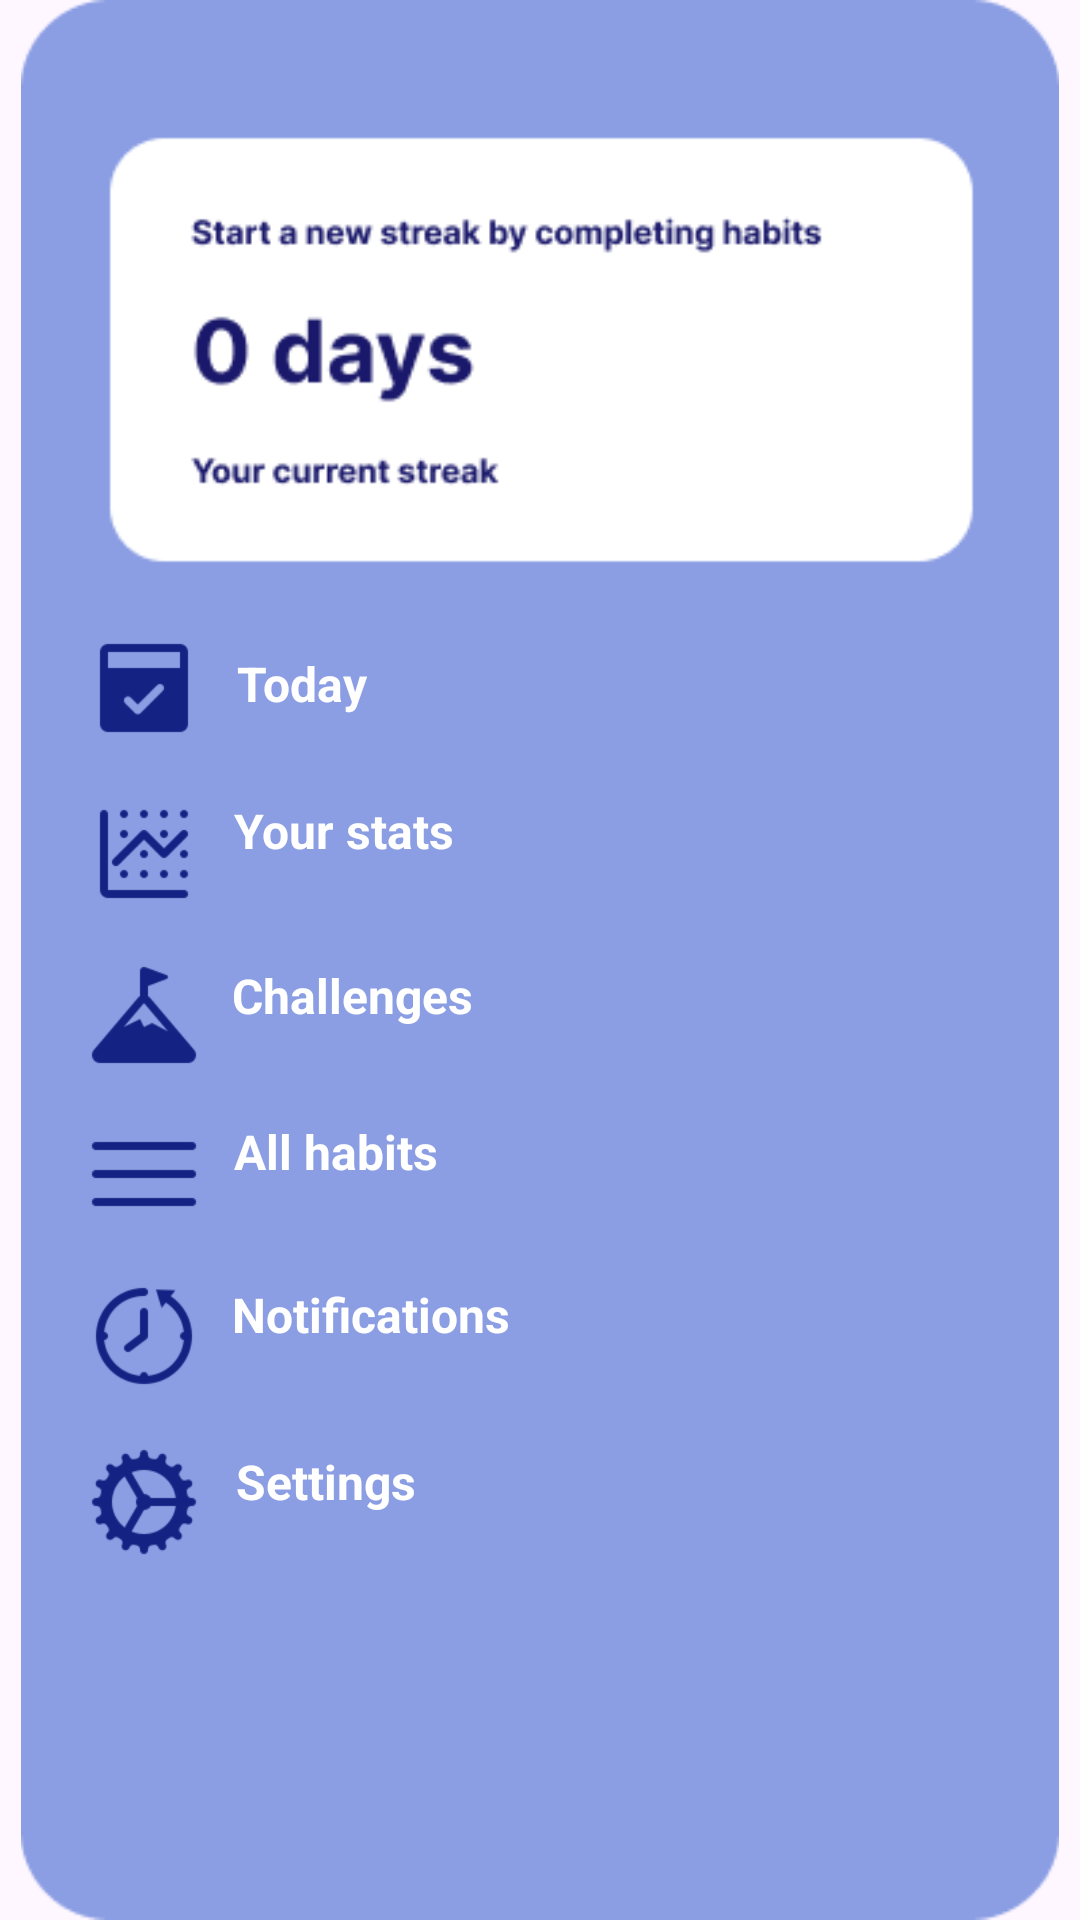

Locate icon controls on the screen. Image size 1080×1920, boxes as (x1, y1, x2, y2).
graph: (100, 810, 188, 898)
menu: (92, 1142, 196, 1206)
mission: (92, 967, 196, 1063)
time machine: (96, 1288, 192, 1384)
